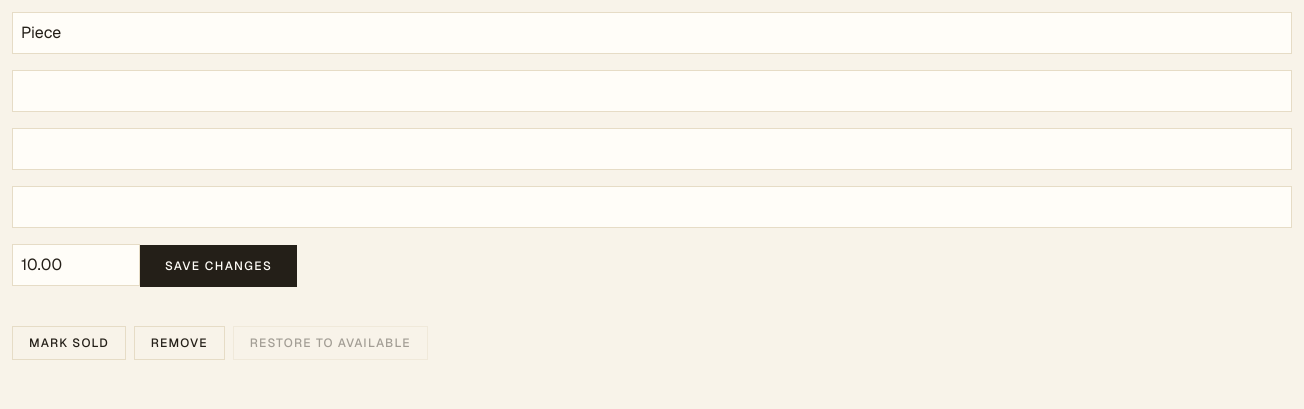
Test: ListingEditForm › reverts optimistic status change on failure
Click the button with test id "listing-edit-form-mark-sold-button" at (69, 343), box [12,326,126,360]
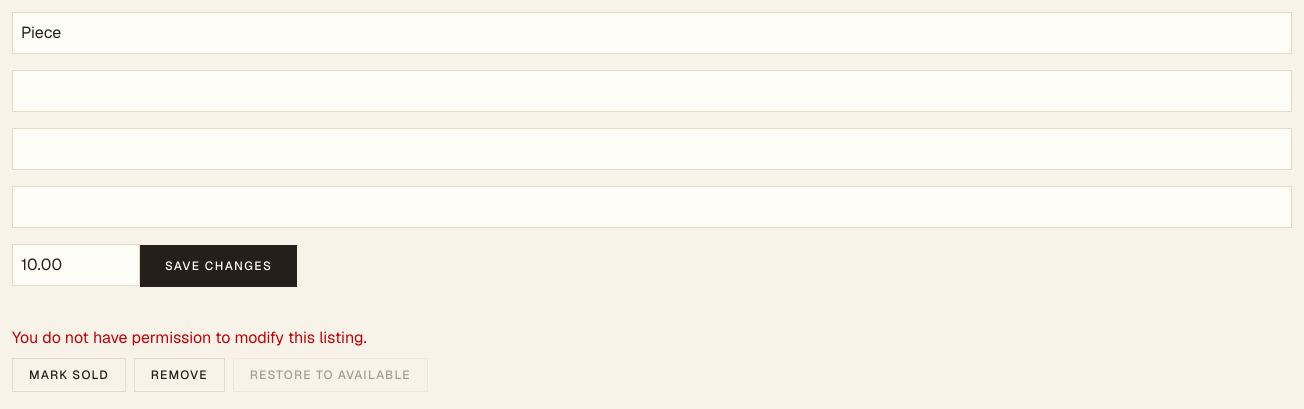
expect the button with test id "listing-edit-form-mark-sold-button" is enabled: met, box [12,358,126,392]
expect the text "You do not have permission to modify this listing." is shown: met, box [12,327,367,348]
